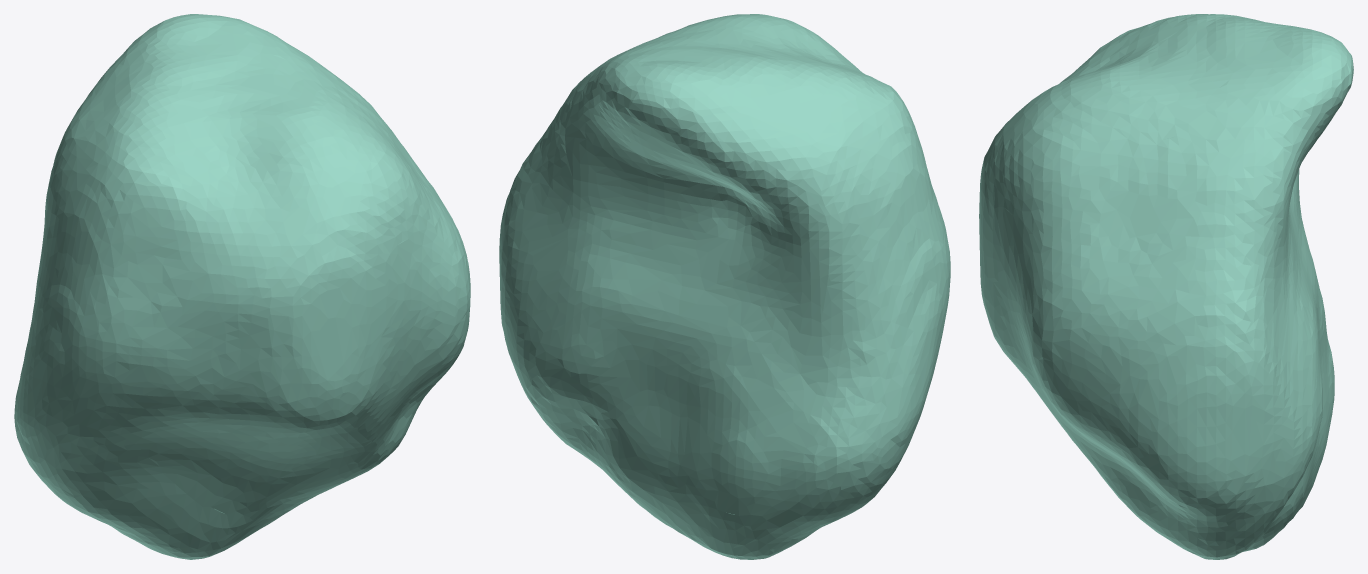
Rendered from ours.glb.
The picture shows the model from 3 angles, left to right: view 1: azimuth 30°, elevation 25°; view 2: azimuth 150°, elevation 25°; view 3: azimuth 270°, elevation 25°; orthographic projection. The views are drawn at different scales.
Parts seen in each view (by area): view 1: world; view 2: world; view 3: world.
Part boxes in pixels (x1,y1,x2,y2): world: (14, 14, 470, 559); world: (499, 14, 950, 559); world: (979, 14, 1353, 559).
Bounding box in the file's own units: 0.8039 × 0.9093 × 0.6091.
